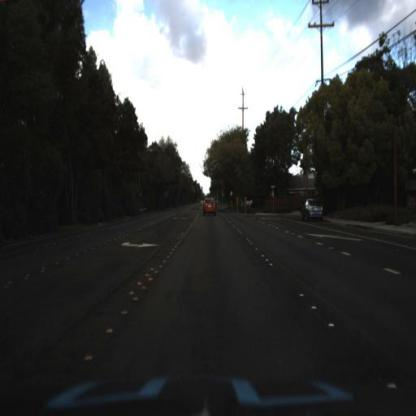car: (298, 197, 326, 223), (202, 195, 219, 224)
